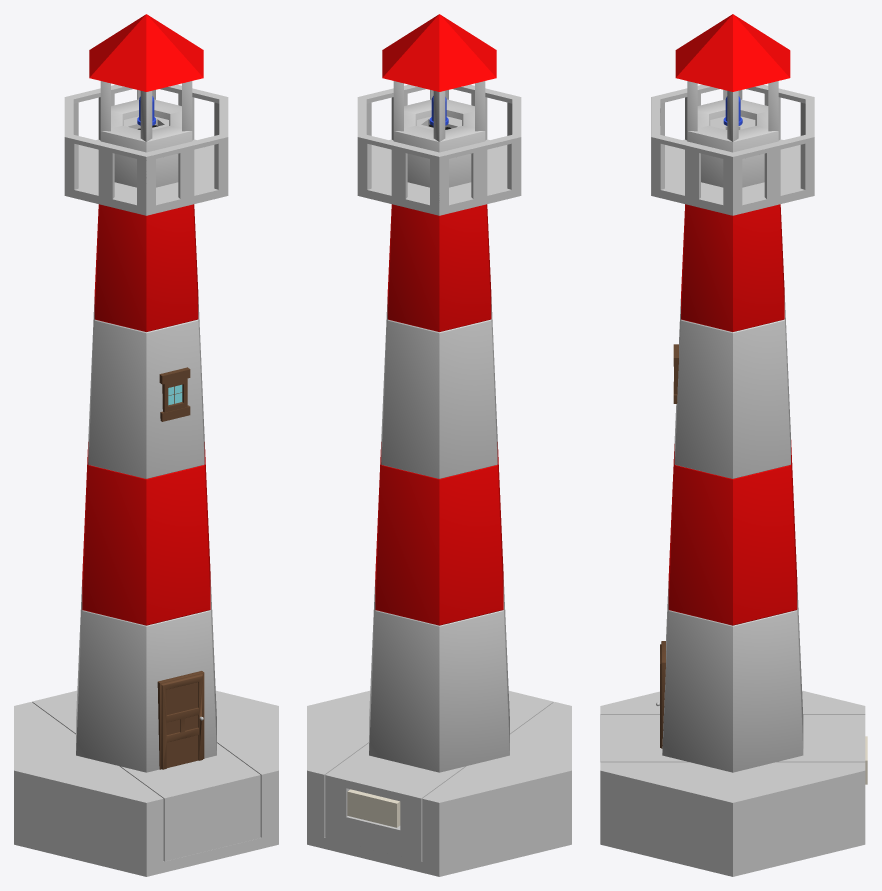
The model's file is obudowa.fbx.
The picture shows the model from 3 angles, left to right: view 1: azimuth 30°, elevation 25°; view 2: azimuth 150°, elevation 25°; view 3: azimuth 270°, elevation 25°; orthographic projection.
Visible parts, largest first — view 1: lighthouse, base, handrails, drawer, roof, door, roof_base, window; view 2: lighthouse, base, handrails, drawer, roof, roof_base, ekomigacz; view 3: lighthouse, base, handrails, roof, drawer, roof_base, door.
Part boxes in pixels (x1,y1,x2,y2): lighthouse: (76,99,216,772); base: (14,690,278,876); handrails: (64,84,228,215); drawer: (32,690,260,861); roof: (89,14,203,91); door: (157,671,204,769); roof_base: (100,81,192,141); window: (159,367,190,421); lighthouse: (369,99,509,772); base: (307,690,571,876); handrails: (357,84,521,215); drawer: (325,691,553,861); roof: (382,14,496,91); roof_base: (393,81,485,141); ekomigacz: (347,789,400,827); lighthouse: (662,99,803,772); base: (600,690,865,876); handrails: (651,84,814,215); roof: (675,14,790,91); drawer: (600,715,865,762); roof_base: (687,81,778,141); door: (656,641,665,748).
Size of the model in its own units: 72.11 by 82.59 by 238.
